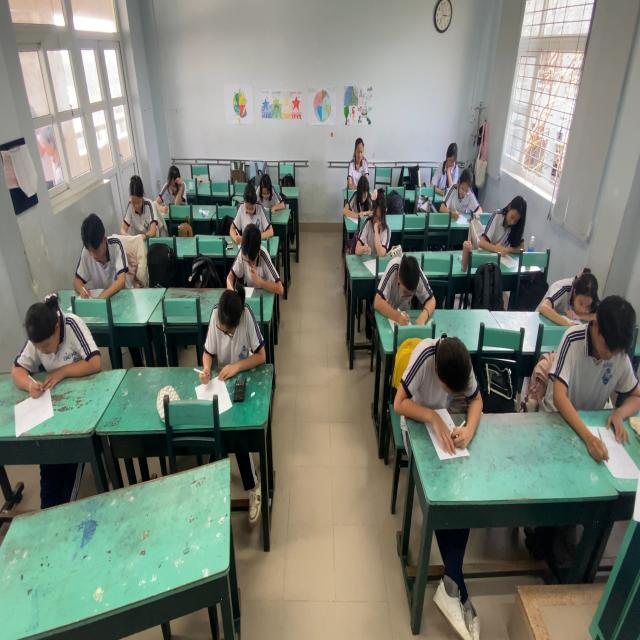not_cheating: (561, 298, 637, 426), (10, 294, 104, 378), (404, 330, 485, 412), (202, 287, 266, 363), (70, 212, 119, 298), (381, 257, 436, 329), (540, 261, 594, 322), (116, 171, 163, 232), (235, 222, 279, 281), (486, 188, 526, 243), (236, 177, 272, 236), (363, 185, 392, 253), (441, 171, 487, 208), (342, 132, 371, 184), (251, 174, 285, 218), (155, 163, 186, 201), (443, 139, 458, 184), (348, 178, 369, 204)
